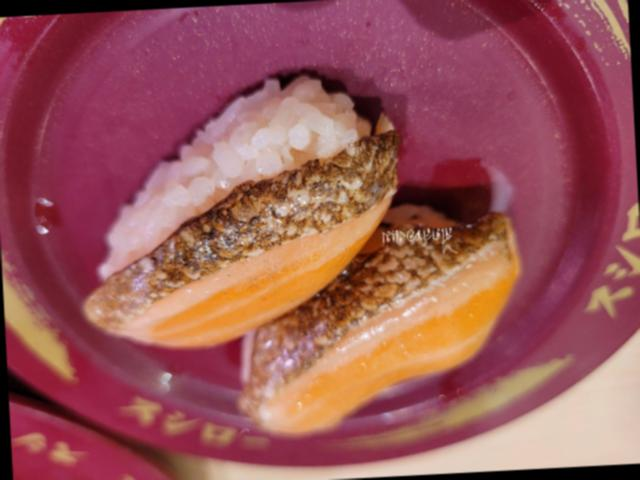janred: (0, 0, 636, 424), (7, 381, 180, 480)
